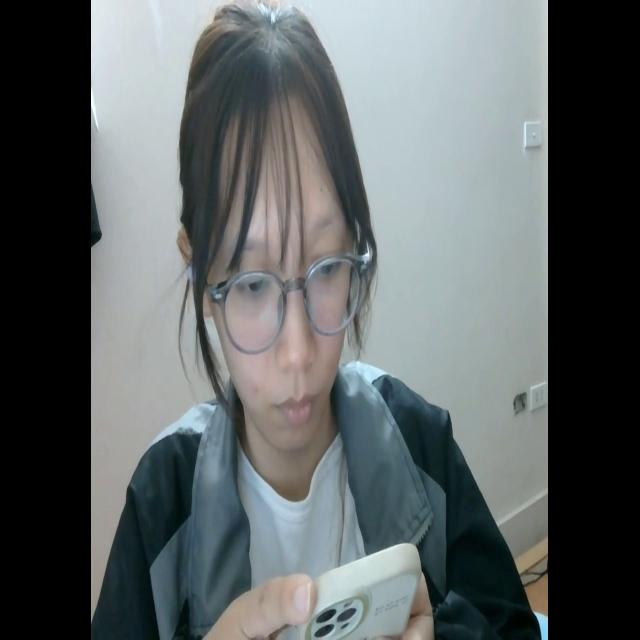phone: (288, 534, 420, 640)
student: (96, 4, 542, 640)
